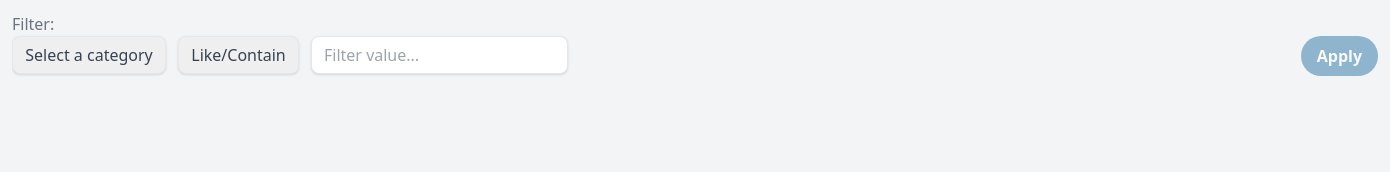
Test: Filters Component › should disable the apply button when no value is entered
Check: the button with test id "apply-filter-button-test-id" is disabled, box [1301,36,1378,76]
Step 1. Select "Category" in the dropdown with test id "select-filters-test-id" → (89, 55), box [12,36,166,74]
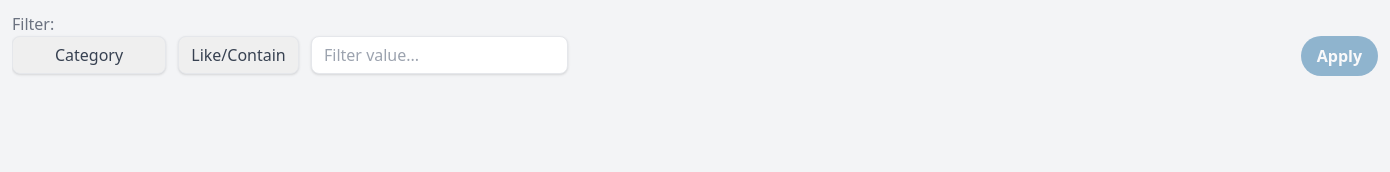
Step 2. Type "Test Value" into the field with test id "input-filters-test-id" → (440, 55), box [311,36,568,74]
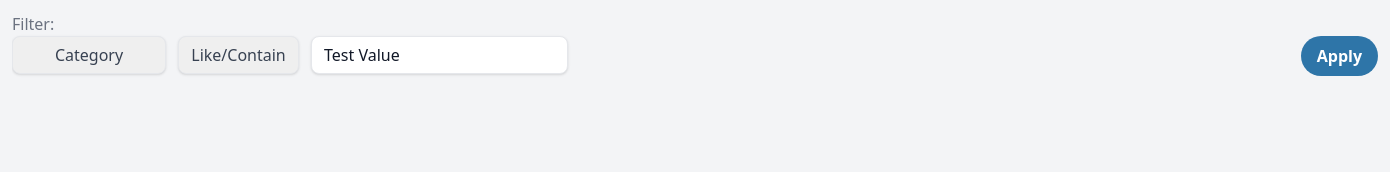
Check: the button with test id "apply-filter-button-test-id" is enabled, box [1301,36,1378,76]
Step 3. Clear the field with test id "input-filters-test-id" → (440, 55), box [311,36,568,74]
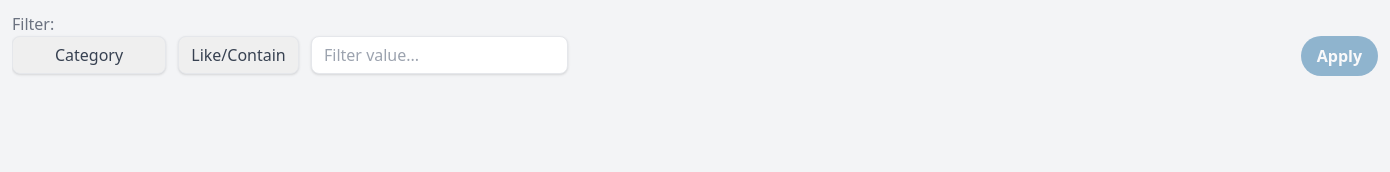
Check: the button with test id "apply-filter-button-test-id" is disabled, box [1301,36,1378,76]
